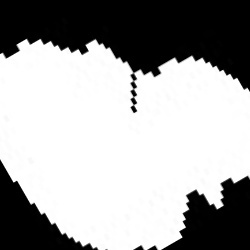spot: (1, 40, 248, 249)
